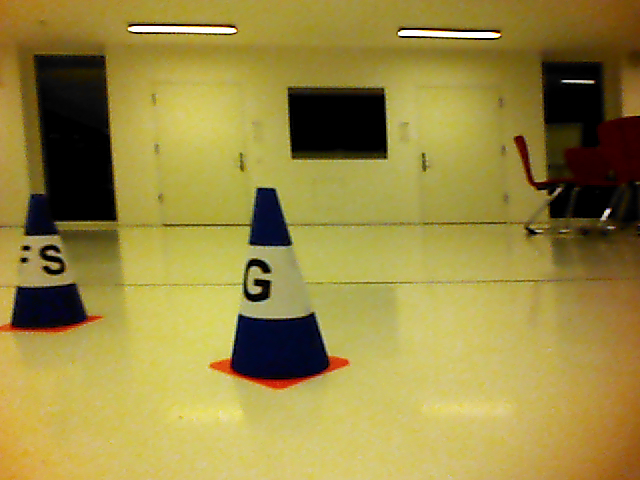bluecone: (229, 186, 330, 378), (11, 194, 87, 329)
